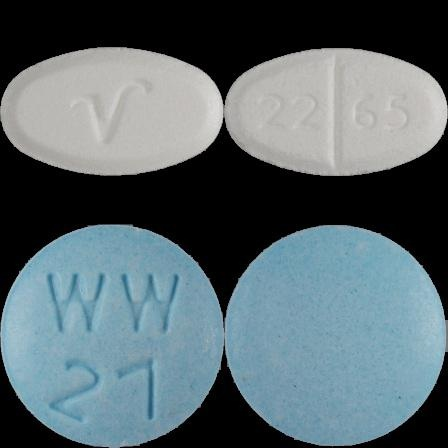63629-1286: (0, 0, 224, 224)
